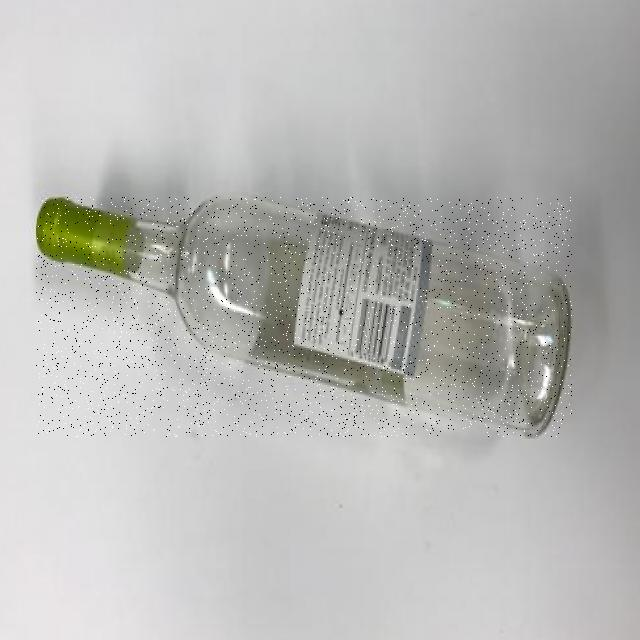glass: (37, 197, 572, 437)
